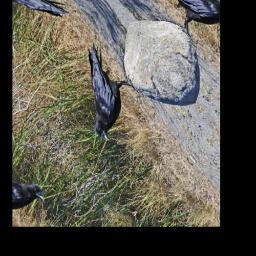Crow: (51, 36, 153, 148)
